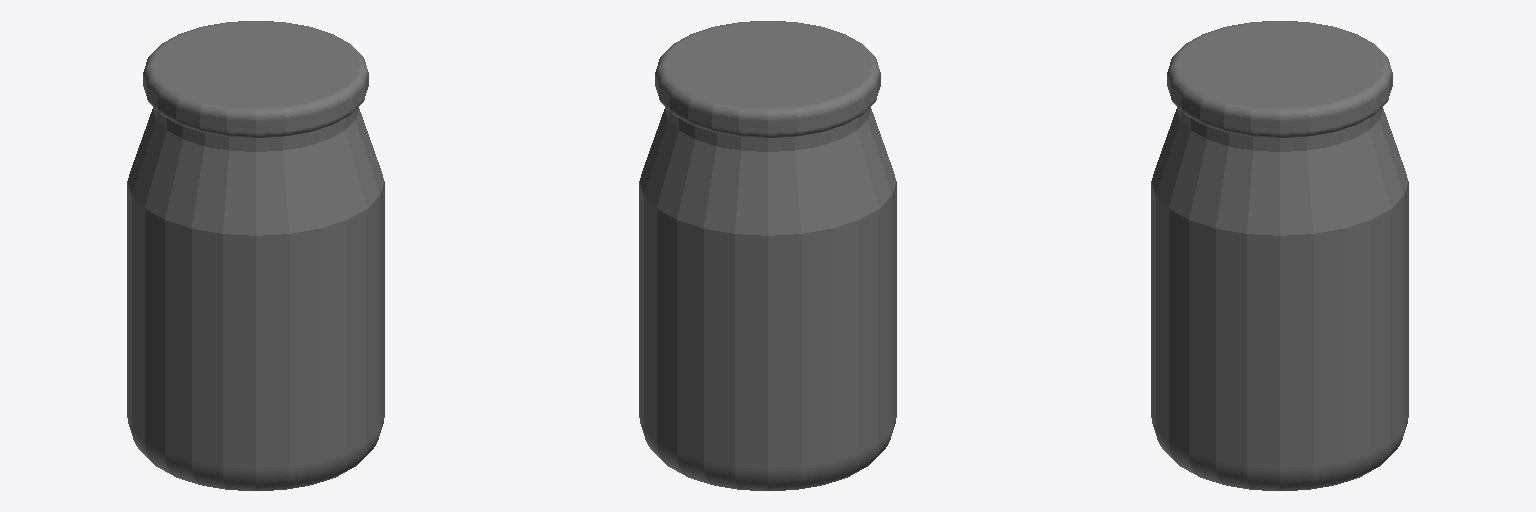
The robot description file, URDF, robot "object":
<?xml version="1.0"?>
<robot name="object">
  <link name="object">
    <visual>
      <origin xyz="0 0 0"/>
      <geometry>
        <mesh
          filename="../../mesh/oakink_virtual/cylinder_bottle_s529.stl" />
      </geometry>
      <material name="mat">
        <color rgba="0.5 0.5 0.5 1"/>
      </material>
    </visual>

    <collision>
      <origin xyz="0 0 0"/>
      <geometry>
        <mesh
          filename="../../mesh/oakink_virtual/cylinder_bottle_s529.stl" />
      </geometry>
    </collision>
  </link>
</robot>

--- Facts derived from the render (not from the file) ---
The picture shows the robot from 3 angles, left to right: view 1: azimuth 30°, elevation 25°; view 2: azimuth 150°, elevation 25°; view 3: azimuth 270°, elevation 25°; orthographic projection.
Robot: object — 1 links, 0 joints (none); root link object; default pose: every joint at zero.
Visible links, largest first — view 1: object; view 2: object; view 3: object.
Boxes of the visible links, box(x1,y1,x2,y2) form: object: box(127, 21, 384, 490); object: box(639, 21, 896, 490); object: box(1151, 21, 1408, 490).
Bounding box of the posed robot: 0.1031 × 0.1031 × 0.1675 m (x, y, z).
1 mesh visuals loaded from 1 distinct referenced files (1 binary STL).